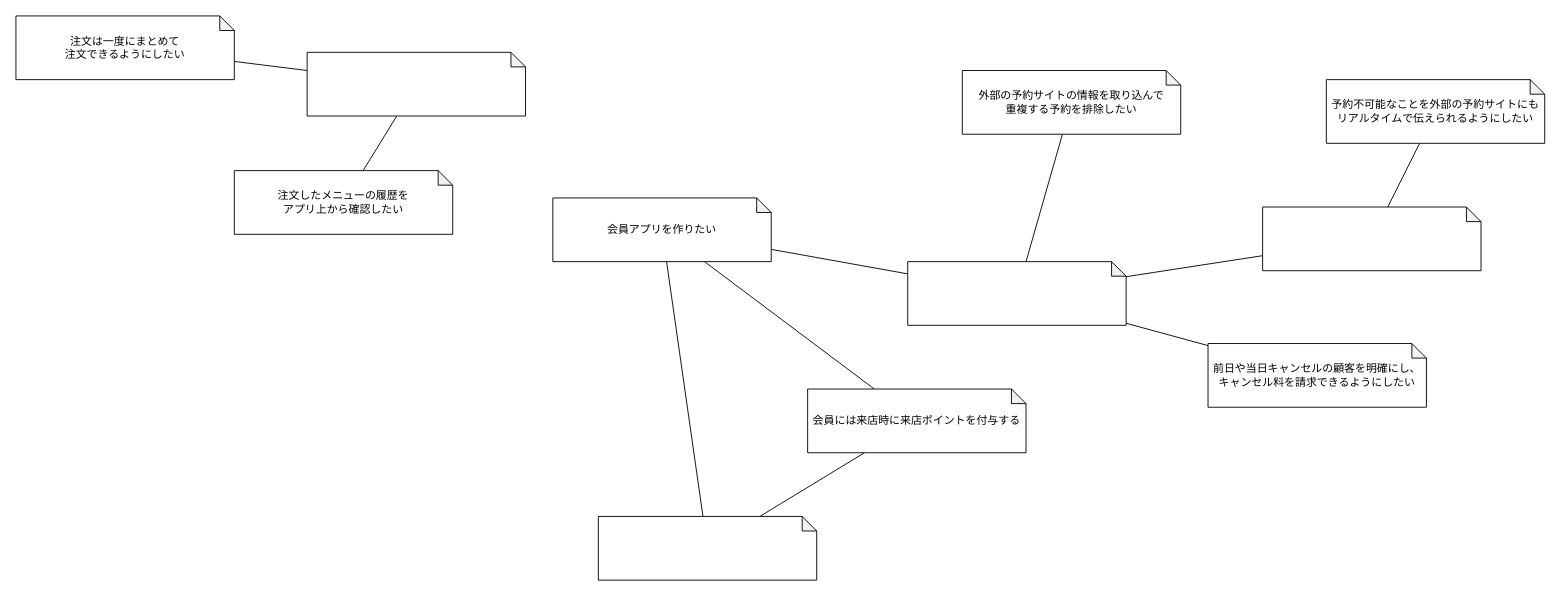
This 1561x596 diagram has some shape labels left out. Each missing label, with the box of its shape:
会員アプリから予約受付をしたい: (907, 261, 1126, 325)
料理注文アプリを作りたい: (306, 51, 526, 116)
来店ポイントが貯まることで一定のサービスを提供したい: (597, 516, 817, 580)
満席時や予約による満席予想で予約可能かどうかを制御したい: (1262, 206, 1481, 271)
